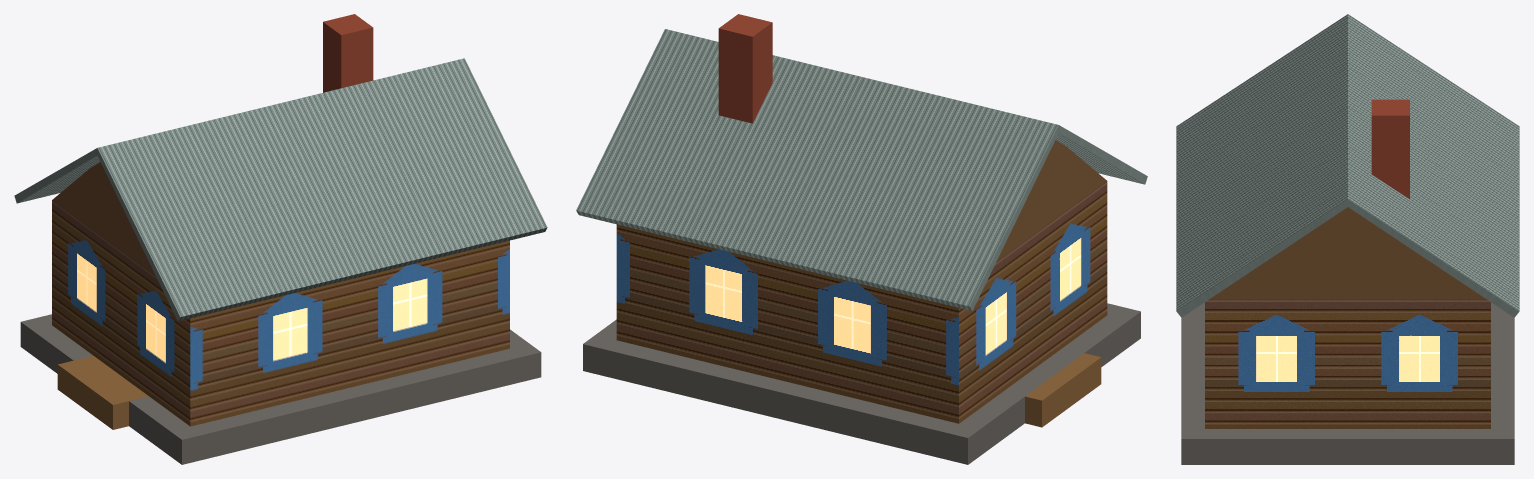
Rendered from sov_izba_a.glb.
3 renders of one model, left to right at view 1: azimuth 30°, elevation 25°; view 2: azimuth 150°, elevation 25°; view 3: azimuth 270°, elevation 25°, orthographic. The views are drawn at different scales.
Visible parts, largest first — view 1: roof; view 2: roof; view 3: roof.
Boxes of the visible parts, x1=… form: roof: x1=14, y1=14, x2=547, y2=464; roof: x1=576, y1=14, x2=1147, y2=464; roof: x1=1176, y1=14, x2=1519, y2=464.
Size of the model in its own units: 9.5 by 7.2 by 7.2.
Materials: 6 (2 with a texture image).
